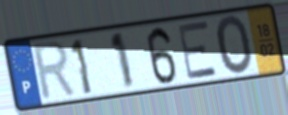1: (109, 30, 136, 91), (69, 36, 95, 97)
6: (145, 24, 179, 86)
E: (176, 19, 220, 82)
O: (214, 13, 255, 78)
R: (31, 38, 80, 104)
